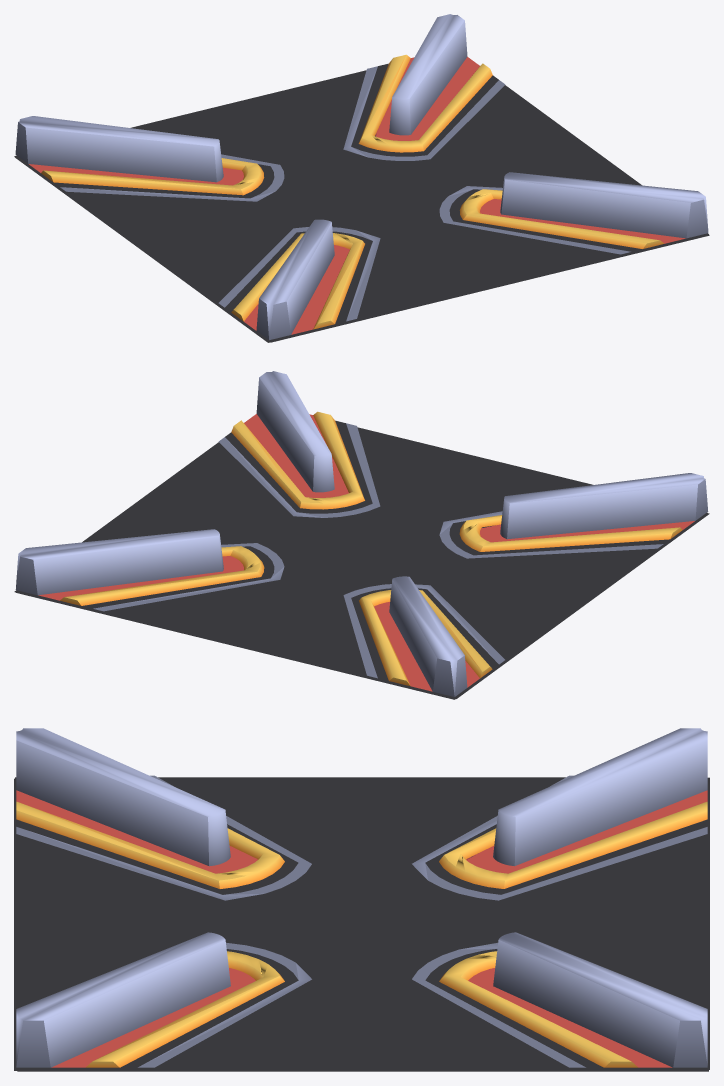
The model's file is track-choke-cross.glb.
The picture shows the model from 3 angles, top to bottom: view 1: azimuth 30°, elevation 25°; view 2: azimuth 150°, elevation 25°; view 3: azimuth 270°, elevation 25°; orthographic projection. The views are drawn at different scales.
Parts seen in each view (by area): view 1: track-corner.007; view 2: track-corner.007; view 3: track-corner.007.
Boxes of the visible parts, left/top/right/bottom form: track-corner.007: left=14, top=14, right=709, bottom=342; track-corner.007: left=14, top=371, right=709, bottom=699; track-corner.007: left=14, top=728, right=709, bottom=1071.
Size of the model in its own units: 10.06 by 0.7945 by 10.06.
Materials: 4 (4 with a texture image).
